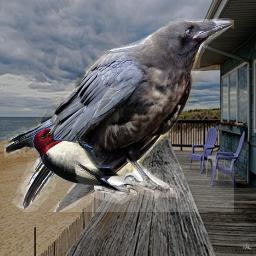Crow: (4, 18, 234, 212)
Woodpecker: (28, 118, 126, 192)
